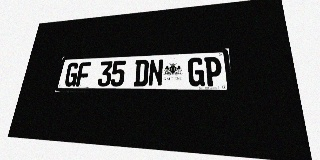3: (97, 61, 113, 86)
5: (110, 60, 126, 86)
D: (133, 59, 149, 86)
F: (75, 62, 91, 87)
G: (188, 57, 205, 86), (64, 62, 80, 87)
N: (148, 59, 164, 86)
P: (204, 57, 222, 86)
